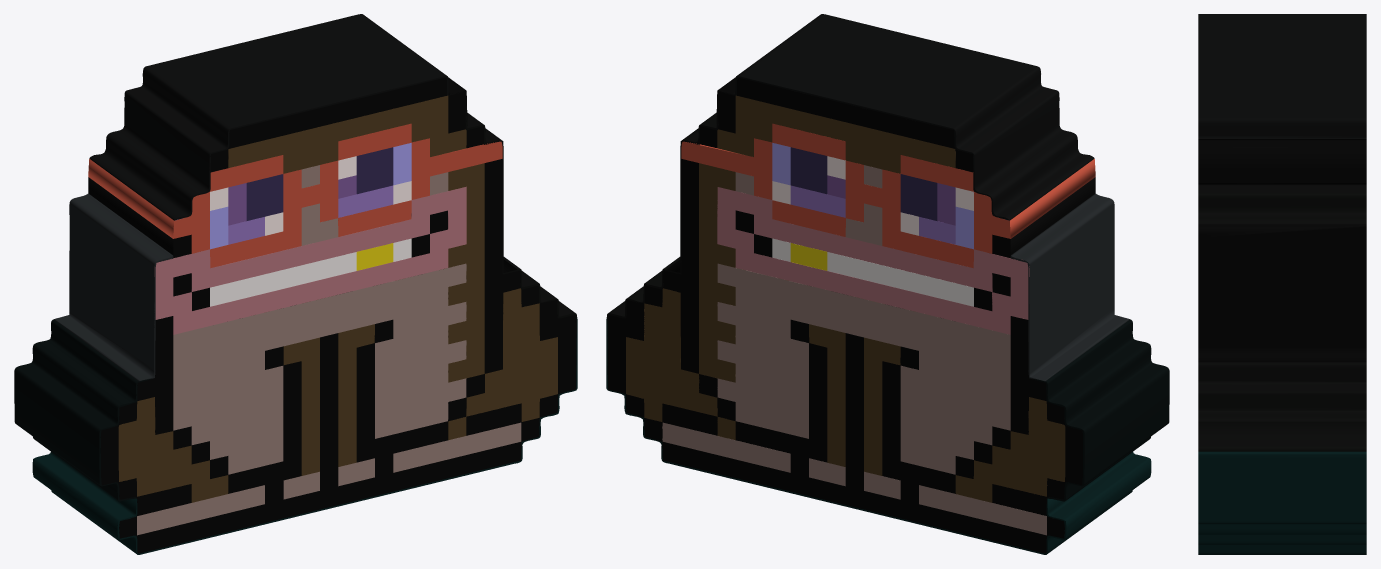
The model's file is Toadz_5285.glb.
3 renders of one model, left to right at view 1: azimuth 30°, elevation 25°; view 2: azimuth 150°, elevation 25°; view 3: azimuth 270°, elevation 25°, orthographic.
Visible parts, largest first — view 1: Curve; view 2: Curve; view 3: Curve.
Boxes of the visible parts, x1,y1,x2,y2 form: Curve: (14,14,577,554); Curve: (606,14,1169,554); Curve: (1198,14,1366,554).
Size of the model in its own units: 3.25 by 2.63 by 1.
